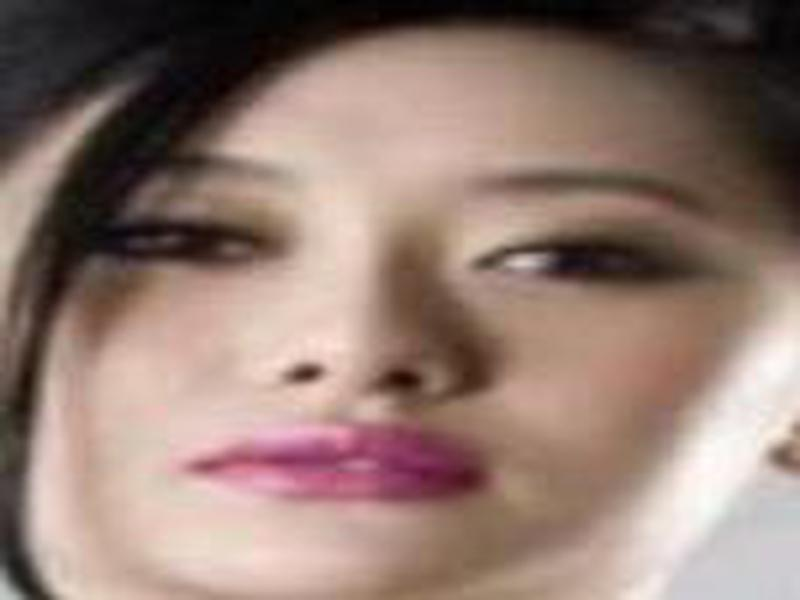without_mask: (37, 72, 800, 600)
